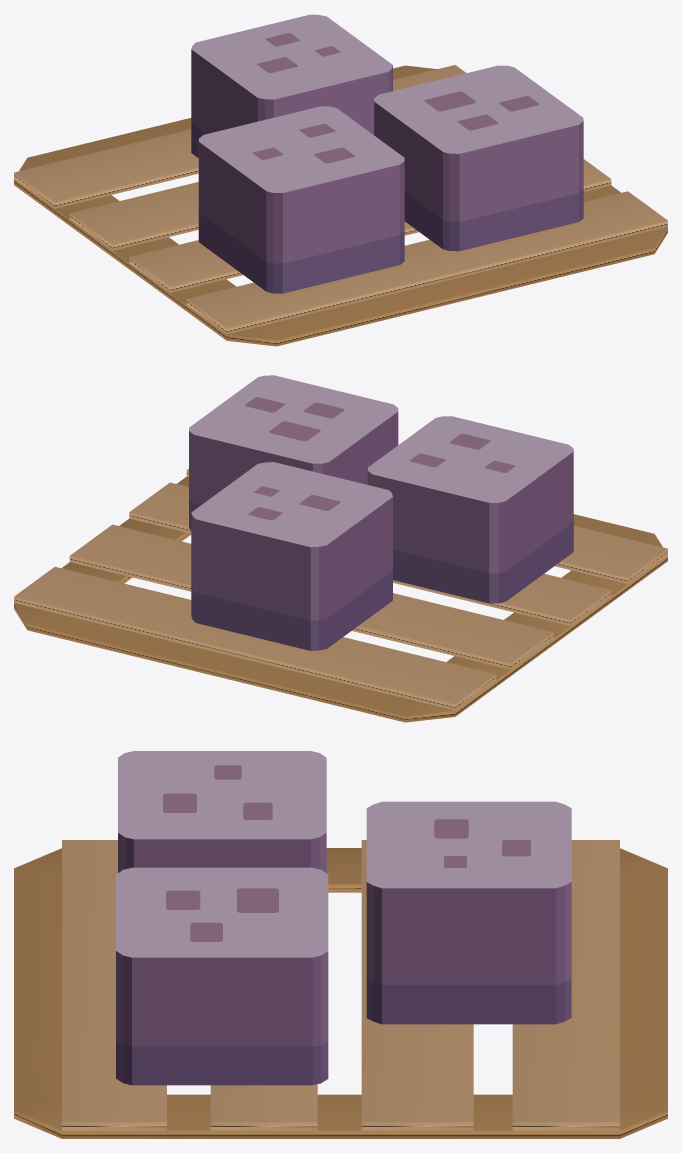
Rendered from BC_cookrecipe_S_20.fbx.
3 views of the same model, one above another, from view 1: azimuth 30°, elevation 25°; view 2: azimuth 150°, elevation 25°; view 3: azimuth 270°, elevation 25° (orthographic). The views are drawn at different scales.
Parts seen in each view (by area): view 1: BC_cookrecipe_S_20 1, base; view 2: BC_cookrecipe_S_20 1, base; view 3: BC_cookrecipe_S_20 1, base.
Part boxes in pixels (x1=…): BC_cookrecipe_S_20 1: x1=191, y1=14, x2=583, y2=293; base: x1=14, y1=65, x2=667, y2=346; BC_cookrecipe_S_20 1: x1=189, y1=375, x2=573, y2=650; base: x1=14, y1=469, x2=667, y2=722; BC_cookrecipe_S_20 1: x1=116, y1=751, x2=571, y2=1085; base: x1=14, y1=840, x2=667, y2=1138.
Size of the model in its own units: 3.54 by 0.9081 by 3.47.
